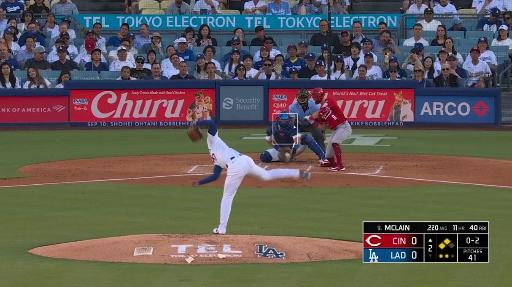pitcher: (186, 119, 312, 237)
